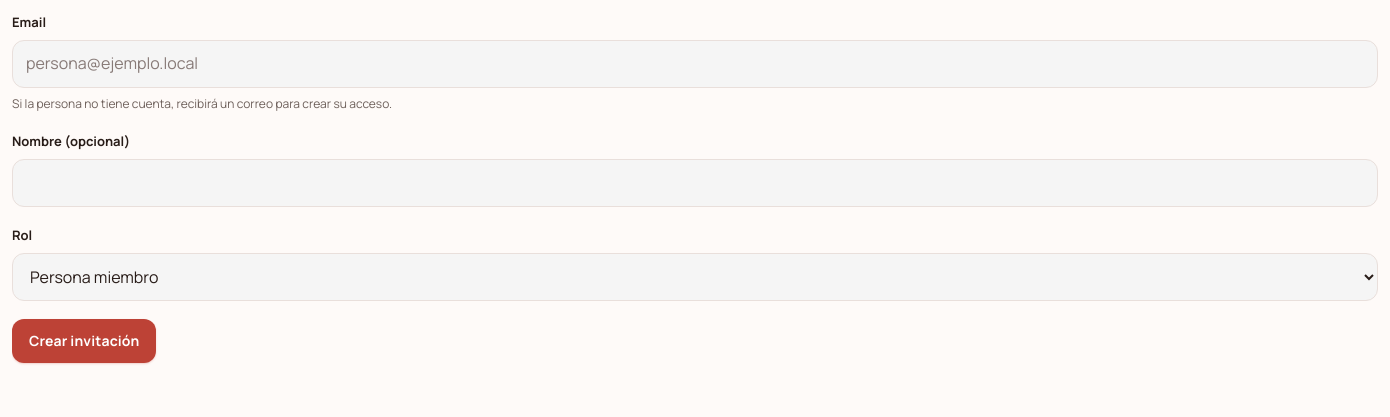
Test: InvitationForm › shows API errors
Type "invitee@example.test" into the field labelled "Email".
click(695, 64); type("invitee@example.test")  # box x1=12 y1=40 x2=1378 y2=88
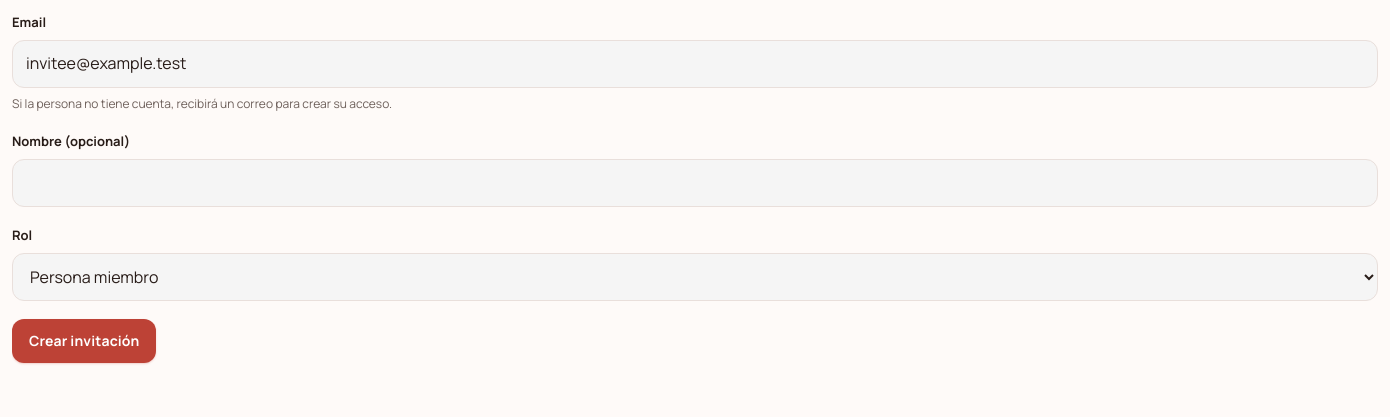
Submit the form named "Invitar a una persona al hogar"
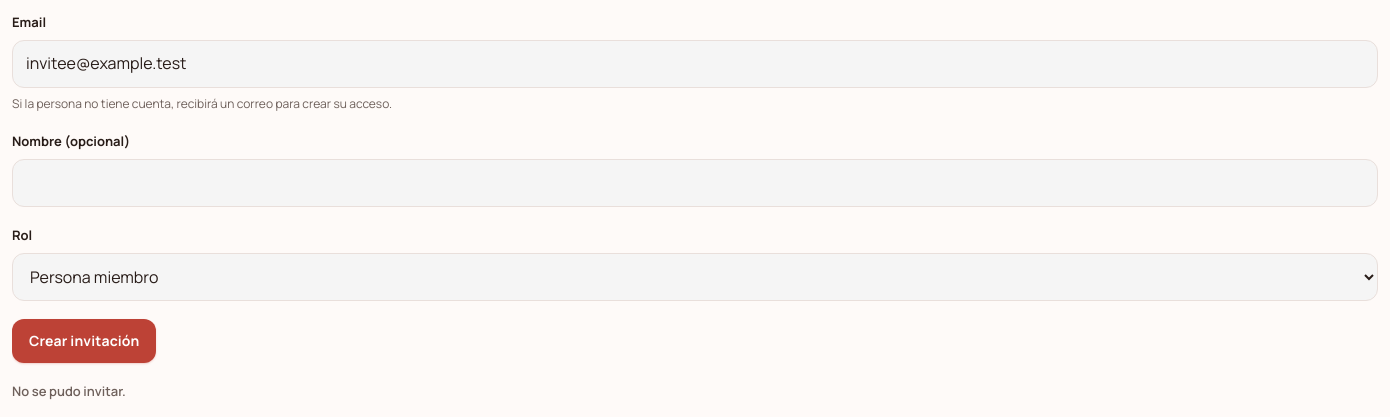
Now the message reads "No se pudo invitar.", box x1=12 y1=382 x2=126 y2=400
